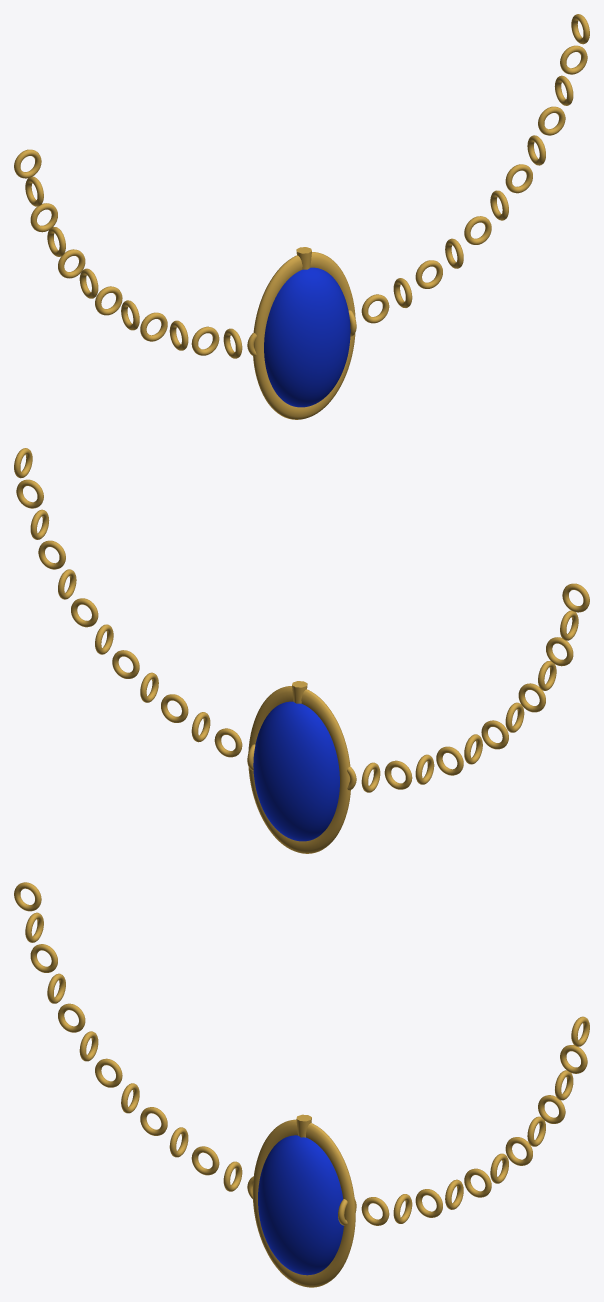
File: necklace.glb
3 renders of one model, top to bottom at view 1: azimuth 30°, elevation 25°; view 2: azimuth 150°, elevation 25°; view 3: azimuth 330°, elevation 25°, orthographic.
Visible parts, largest first — view 1: gem, metal; view 2: gem, metal; view 3: gem, metal.
Part boxes in pixels (bbox=[...]): gem: bbox=[264, 267, 350, 407]; metal: bbox=[253, 252, 355, 419]; gem: bbox=[253, 701, 339, 841]; metal: bbox=[248, 686, 350, 853]; gem: bbox=[258, 1135, 343, 1275]; metal: bbox=[252, 1119, 355, 1287].
Size of the model in its own units: 6.51 by 3.66 by 0.702.
